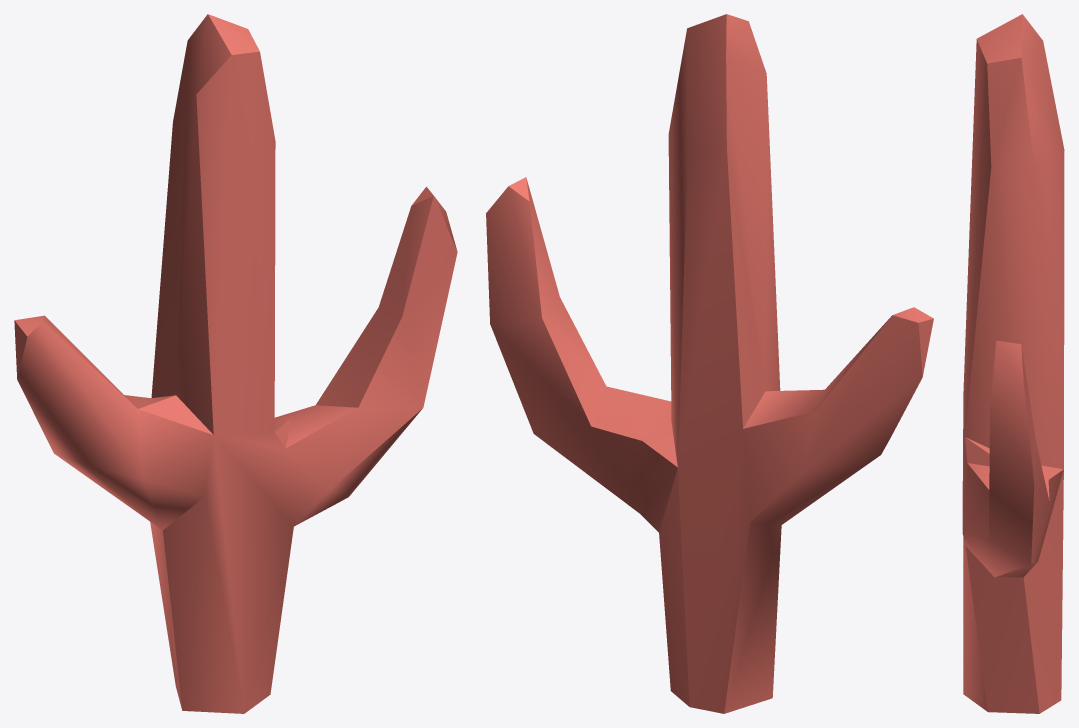
File: Cactus_02.glb
3 views of the same model, side by side, from view 1: azimuth 30°, elevation 25°; view 2: azimuth 150°, elevation 25°; view 3: azimuth 270°, elevation 25° (orthographic).
Parts seen in each view (by area): view 1: Cactus_02; view 2: Cactus_02; view 3: Cactus_02.
Boxes of the visible parts, <box> form: Cactus_02: <box>14,14,457,713</box>; Cactus_02: <box>486,14,933,713</box>; Cactus_02: <box>962,14,1064,713</box>.
Size of the model in its own units: 146 by 219 by 29.87.
